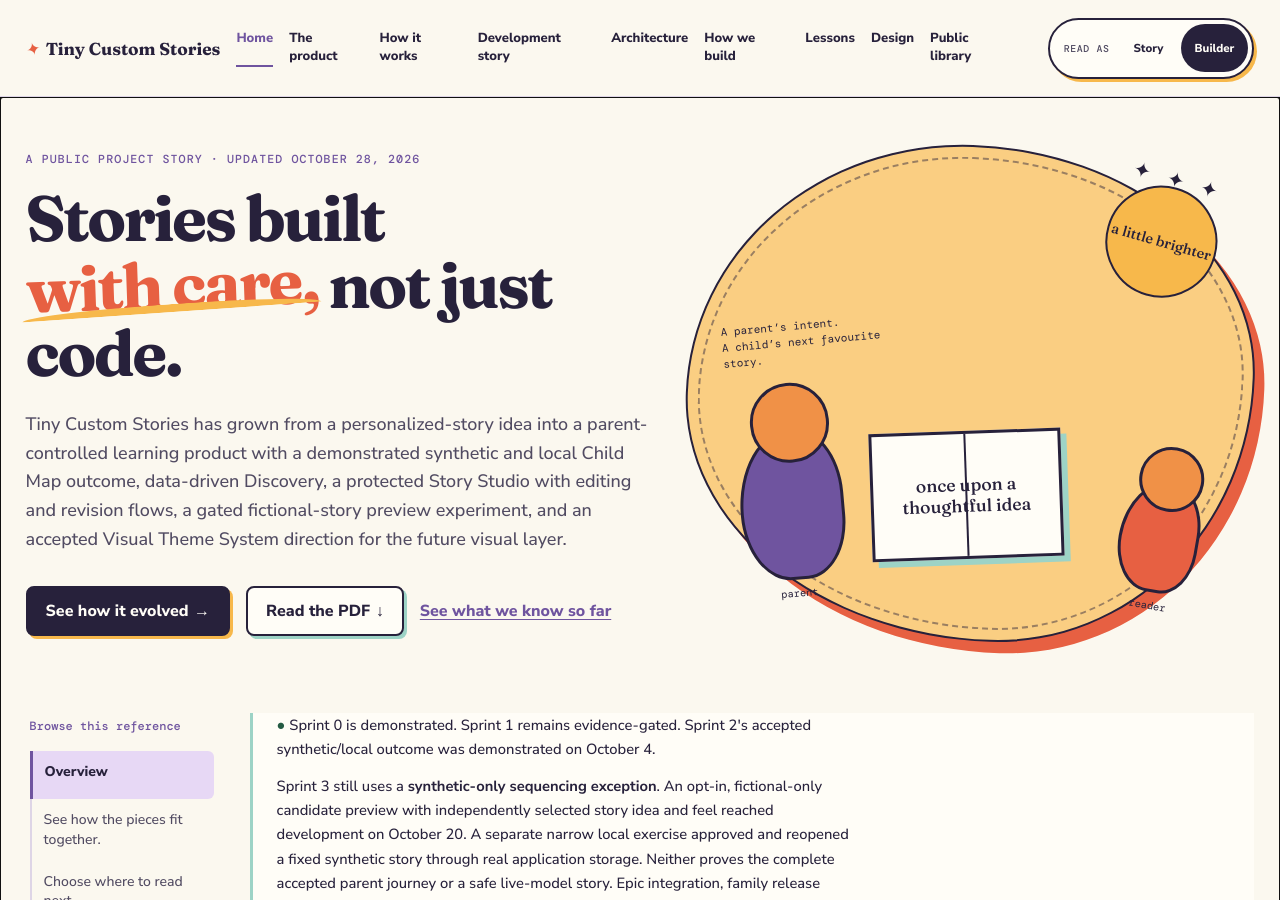
it: project story site › describes epic-scoped task integration, the new CI cadence, and model-choice limits
Click the link "How we build" at (730, 47), box top-left (704, 29), bottom-right (755, 65)
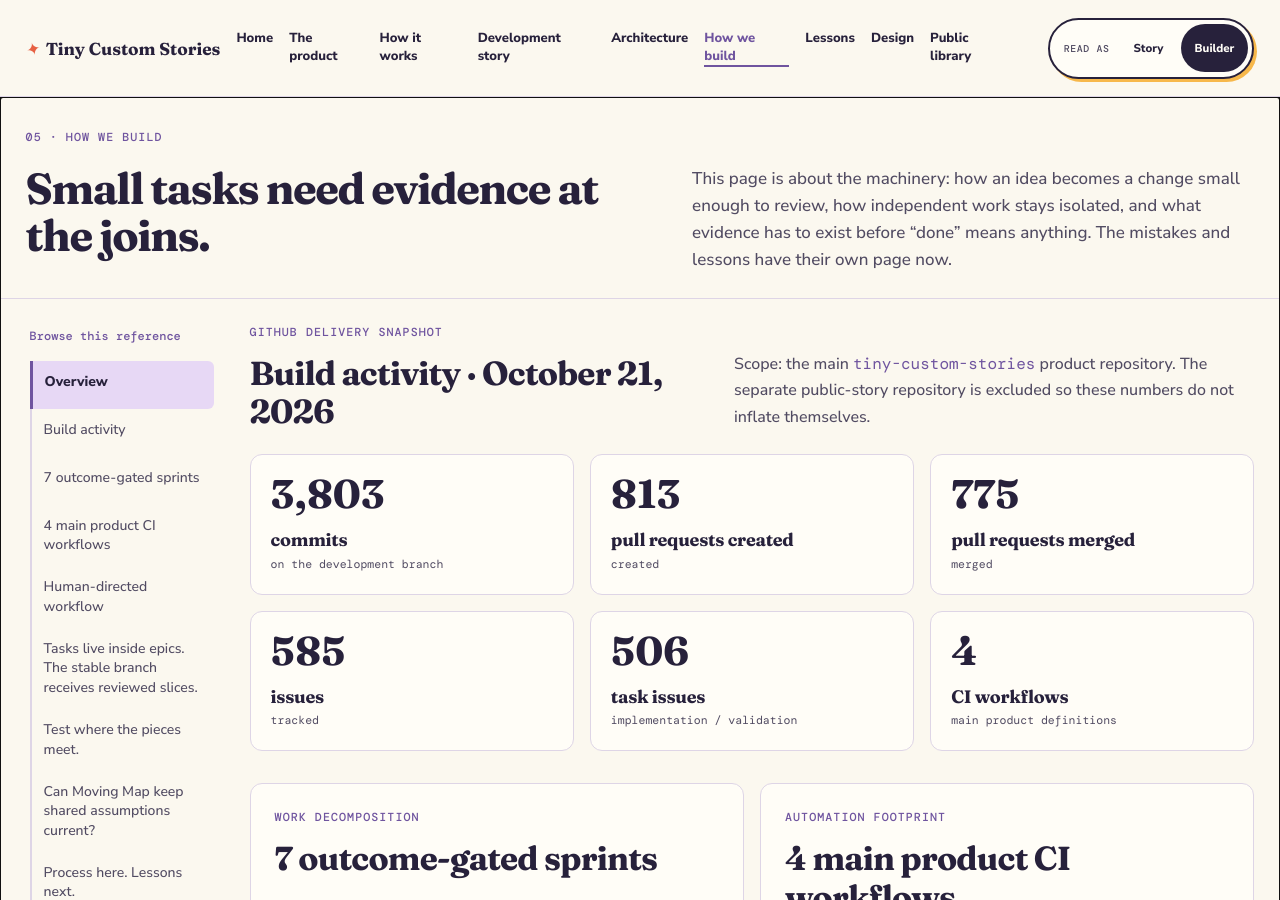
Click the link "Lessons" at (830, 38), box top-left (805, 29), bottom-right (855, 47)
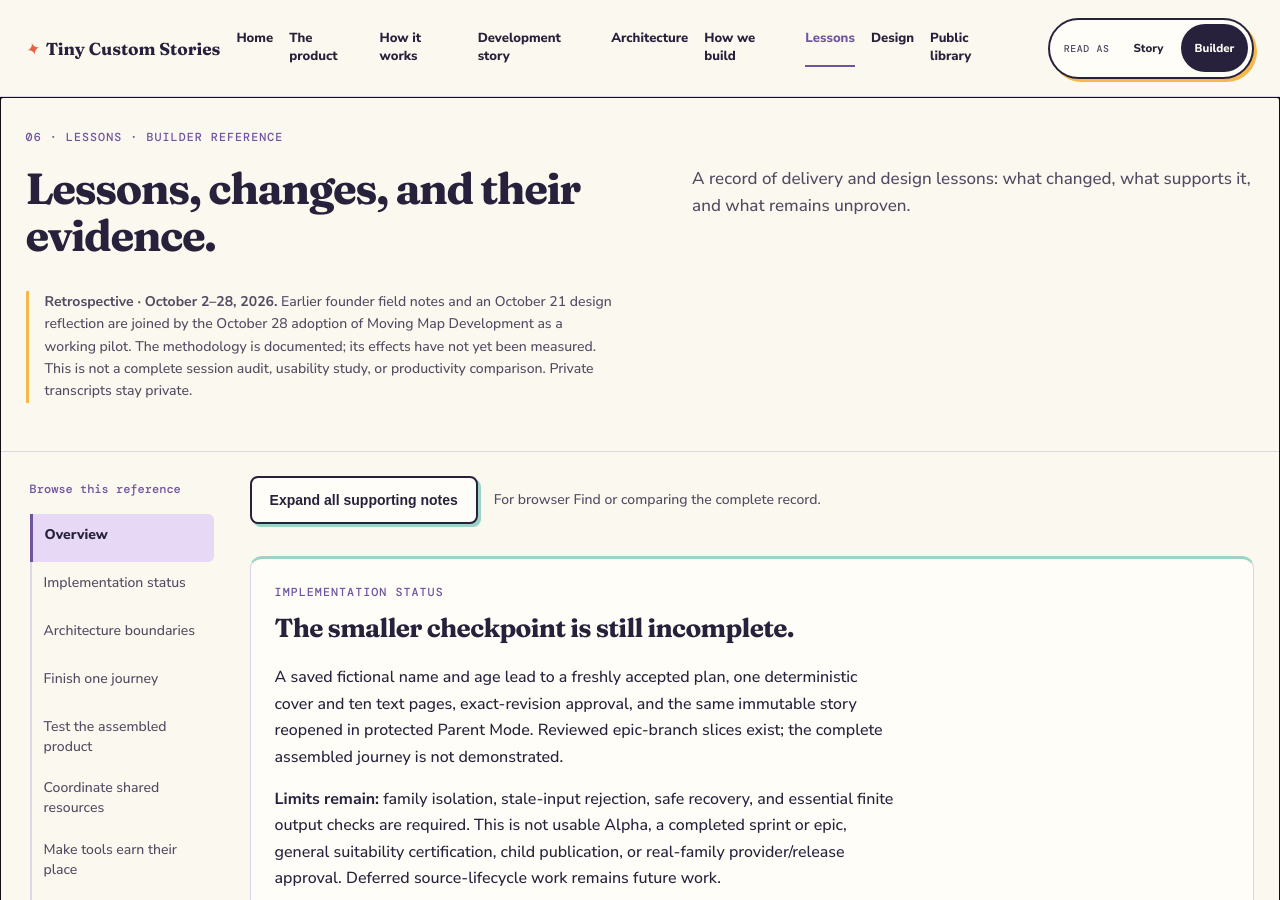
Click the link "Development story" at (519, 47), box top-left (478, 29), bottom-right (561, 65)
(page scrolled)
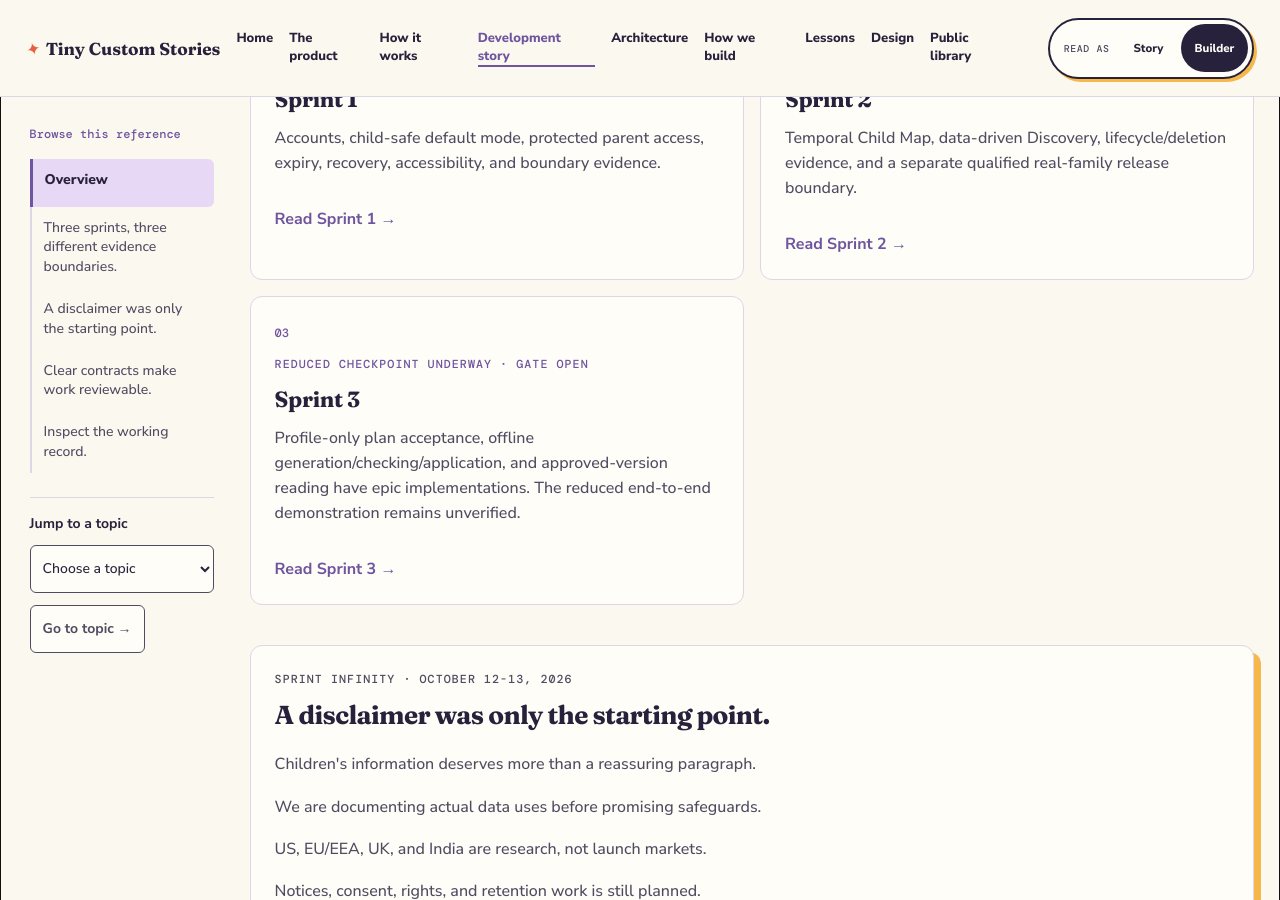
Click the link named "Read Sprint 3" at (497, 450), box top-left (250, 296), bottom-right (744, 605)
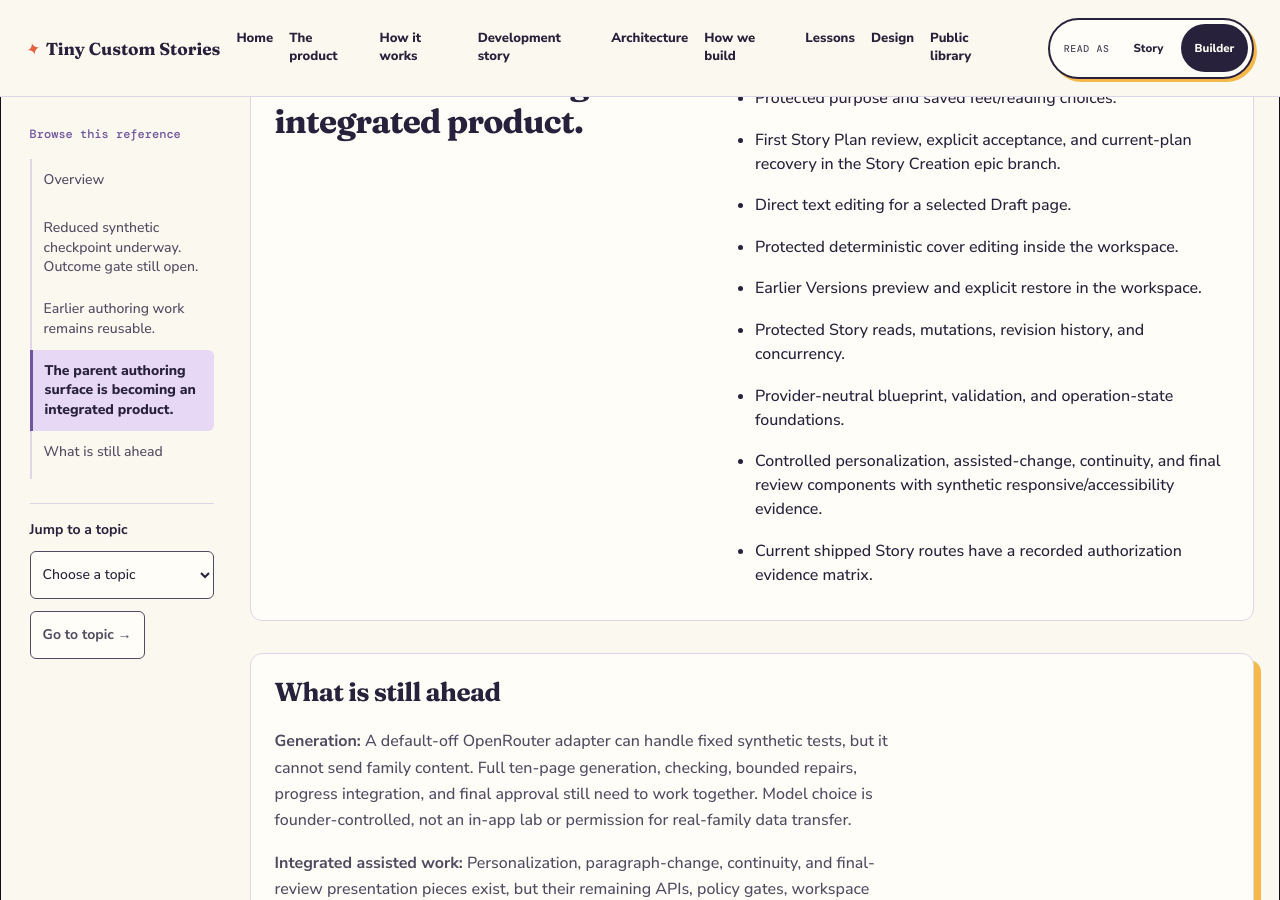
Expected: the list item "Profile-based entry and canonical saved-child setup." is shown, top-left (755, 45), bottom-right (1134, 67)
Expected: the text "default-off OpenRouter adapter" is shown, top-left (275, 730), bottom-right (888, 831)
